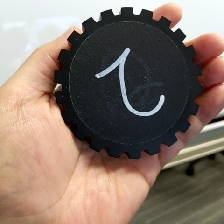gear: (52, 5, 205, 161)
